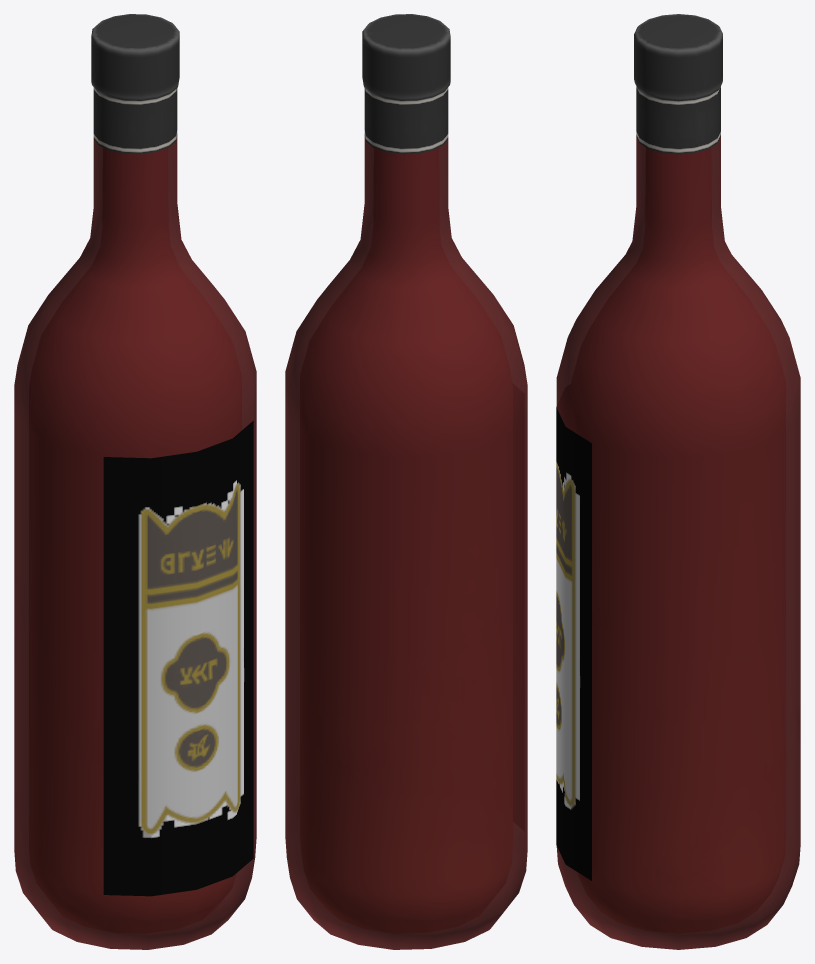
File: pi_vinegar03.gltf
The picture shows the model from 3 angles, left to right: view 1: azimuth 30°, elevation 25°; view 2: azimuth 150°, elevation 25°; view 3: azimuth 270°, elevation 25°; orthographic projection.
Visible parts, largest first — view 1: pi_vinegar03_bottle01_glass_mesh_shape:pi_vinegar03_glass, pi_vinegar03_mesh_shape:pi_vinegar03_body, pi_vinegar03_bottle01_label_mesh_shape:pi_vinegar03_label, pi_vinegar03_bottle01_lid_mesh_shape:pi_vinegar03_lid, pi_vinegar03_bottle01_lidlabel_mesh_shape:pi_vinegar03_lid; view 2: pi_vinegar03_bottle01_glass_mesh_shape:pi_vinegar03_glass, pi_vinegar03_mesh_shape:pi_vinegar03_body, pi_vinegar03_bottle01_lid_mesh_shape:pi_vinegar03_lid, pi_vinegar03_bottle01_lidlabel_mesh_shape:pi_vinegar03_lid; view 3: pi_vinegar03_bottle01_glass_mesh_shape:pi_vinegar03_glass, pi_vinegar03_mesh_shape:pi_vinegar03_body, pi_vinegar03_bottle01_label_mesh_shape:pi_vinegar03_label, pi_vinegar03_bottle01_lid_mesh_shape:pi_vinegar03_lid, pi_vinegar03_bottle01_lidlabel_mesh_shape:pi_vinegar03_lid.
Part boxes in pixels (x1,y1,x2,y2): pi_vinegar03_bottle01_glass_mesh_shape:pi_vinegar03_glass: (14, 136, 256, 949); pi_vinegar03_mesh_shape:pi_vinegar03_body: (29, 148, 241, 932); pi_vinegar03_bottle01_label_mesh_shape:pi_vinegar03_label: (103, 421, 253, 896); pi_vinegar03_bottle01_lid_mesh_shape:pi_vinegar03_lid: (91, 14, 179, 100); pi_vinegar03_bottle01_lidlabel_mesh_shape:pi_vinegar03_lid: (93, 87, 177, 154); pi_vinegar03_bottle01_glass_mesh_shape:pi_vinegar03_glass: (285, 136, 527, 949); pi_vinegar03_mesh_shape:pi_vinegar03_body: (300, 148, 512, 932); pi_vinegar03_bottle01_lid_mesh_shape:pi_vinegar03_lid: (362, 14, 450, 100); pi_vinegar03_bottle01_lidlabel_mesh_shape:pi_vinegar03_lid: (364, 87, 448, 154); pi_vinegar03_bottle01_glass_mesh_shape:pi_vinegar03_glass: (556, 137, 800, 949); pi_vinegar03_mesh_shape:pi_vinegar03_body: (572, 148, 785, 932); pi_vinegar03_bottle01_label_mesh_shape:pi_vinegar03_label: (556, 407, 591, 880); pi_vinegar03_bottle01_lid_mesh_shape:pi_vinegar03_lid: (634, 14, 722, 101); pi_vinegar03_bottle01_lidlabel_mesh_shape:pi_vinegar03_lid: (636, 86, 720, 154).
Bounding box in the file's own units: 0.075 × 0.2973 × 0.075.
4 materials, 4 textured.
